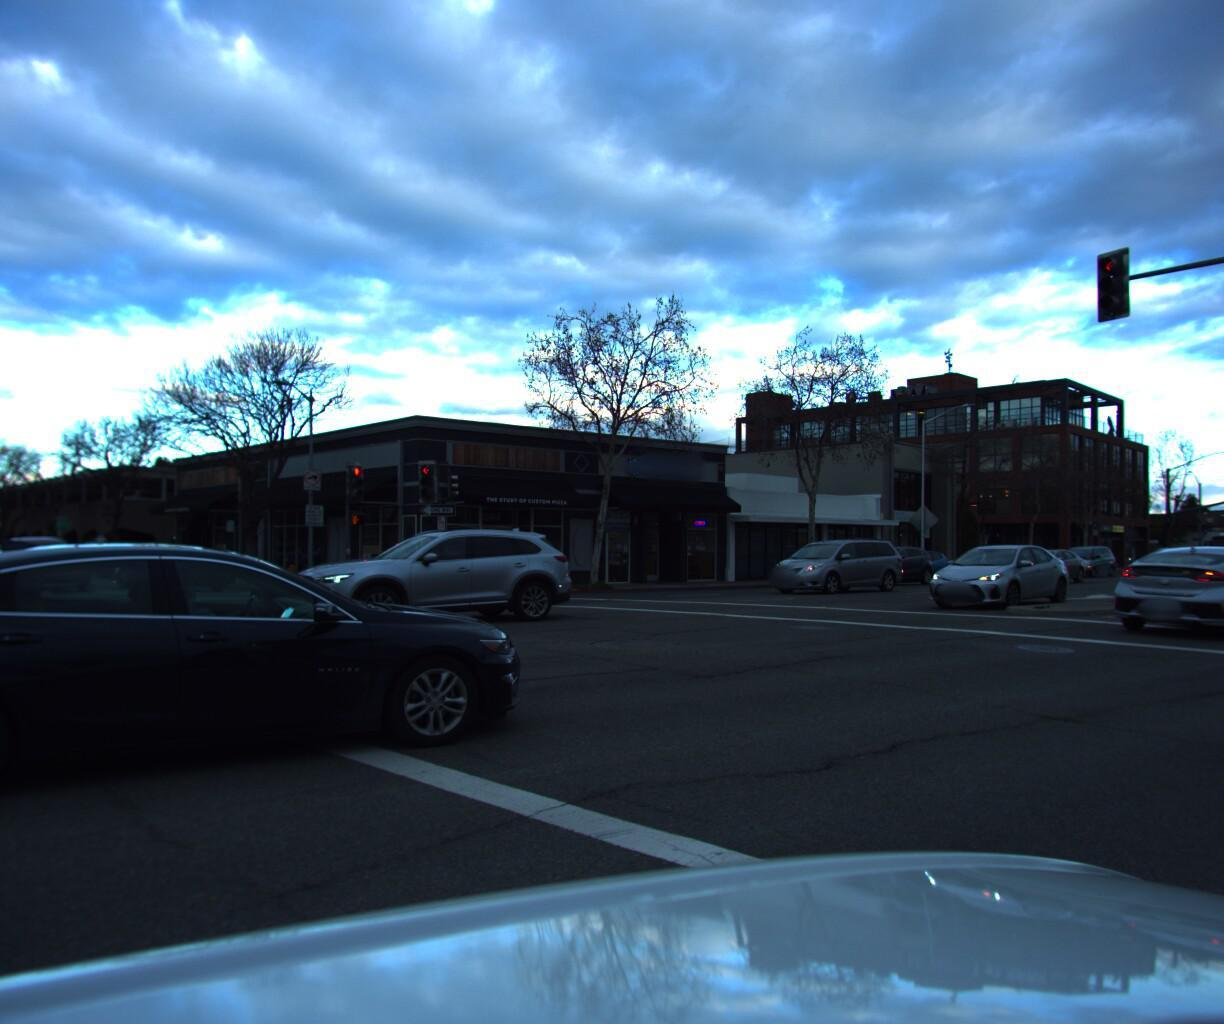car: (274, 519, 580, 638), (913, 537, 1078, 612), (1104, 543, 1224, 646), (761, 532, 910, 593), (108, 544, 245, 593), (841, 540, 945, 584), (995, 538, 1090, 576), (61, 535, 141, 576), (871, 542, 957, 577), (1057, 541, 1128, 573)
